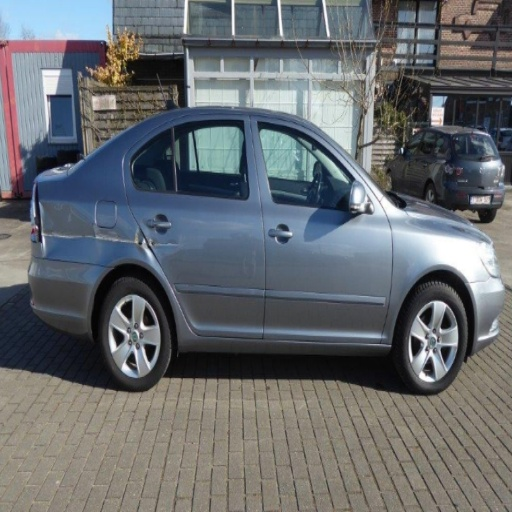dent: (40, 197, 100, 254), (95, 217, 153, 257), (143, 228, 170, 256)
scratch: (43, 224, 137, 248), (154, 240, 180, 248)
